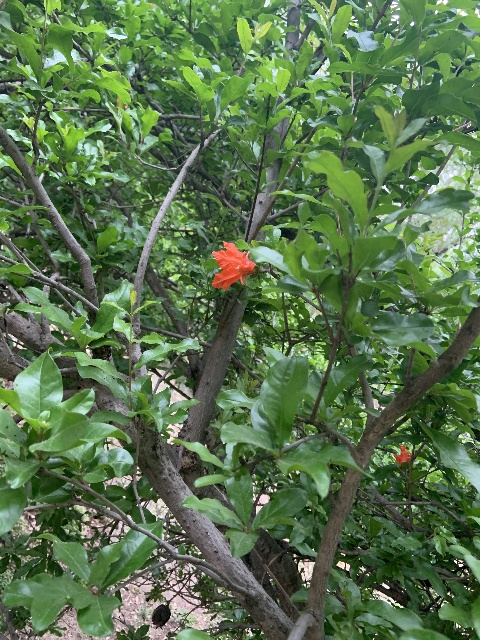flower: (211, 240, 256, 290), (393, 444, 412, 466)
